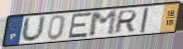0: (46, 14, 67, 41)
E: (66, 12, 94, 40)
I: (139, 6, 151, 34)
M: (88, 9, 119, 38)
R: (113, 9, 139, 35)
U: (20, 14, 48, 44)
